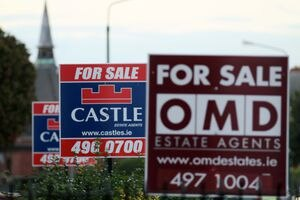property sign: (143, 45, 290, 200), (53, 58, 147, 162), (27, 99, 64, 168)
